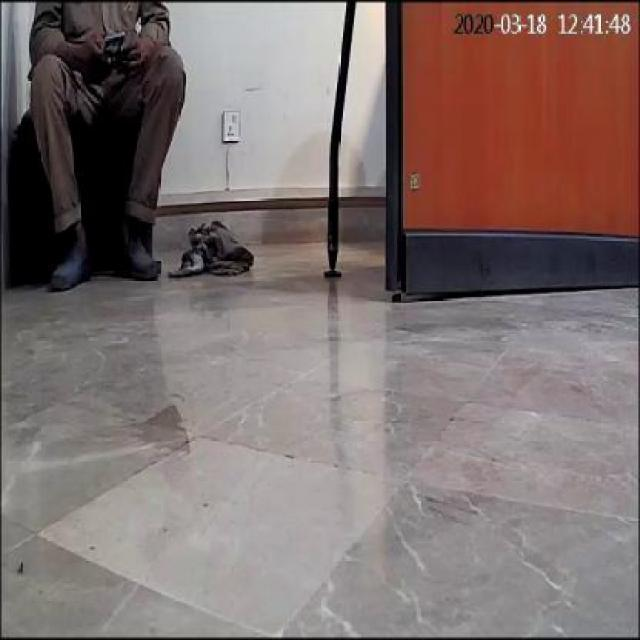spill: (139, 390, 236, 472)
